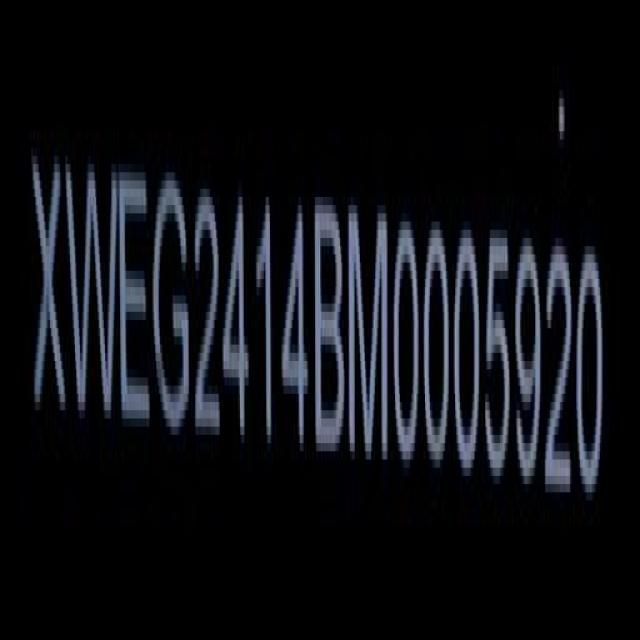0: (395, 209, 423, 466), (424, 222, 452, 472), (577, 257, 605, 500), (456, 224, 483, 475)
1: (256, 188, 275, 456)
2: (194, 182, 224, 454), (547, 246, 574, 498)
4: (283, 191, 313, 461), (224, 191, 252, 455)
5: (486, 232, 512, 483)
9: (516, 238, 542, 491)
B: (316, 196, 347, 464)
E: (118, 163, 153, 440)
G: (154, 166, 192, 440)
M: (350, 205, 390, 467)
W: (70, 154, 118, 436)
X: (33, 144, 68, 427)
